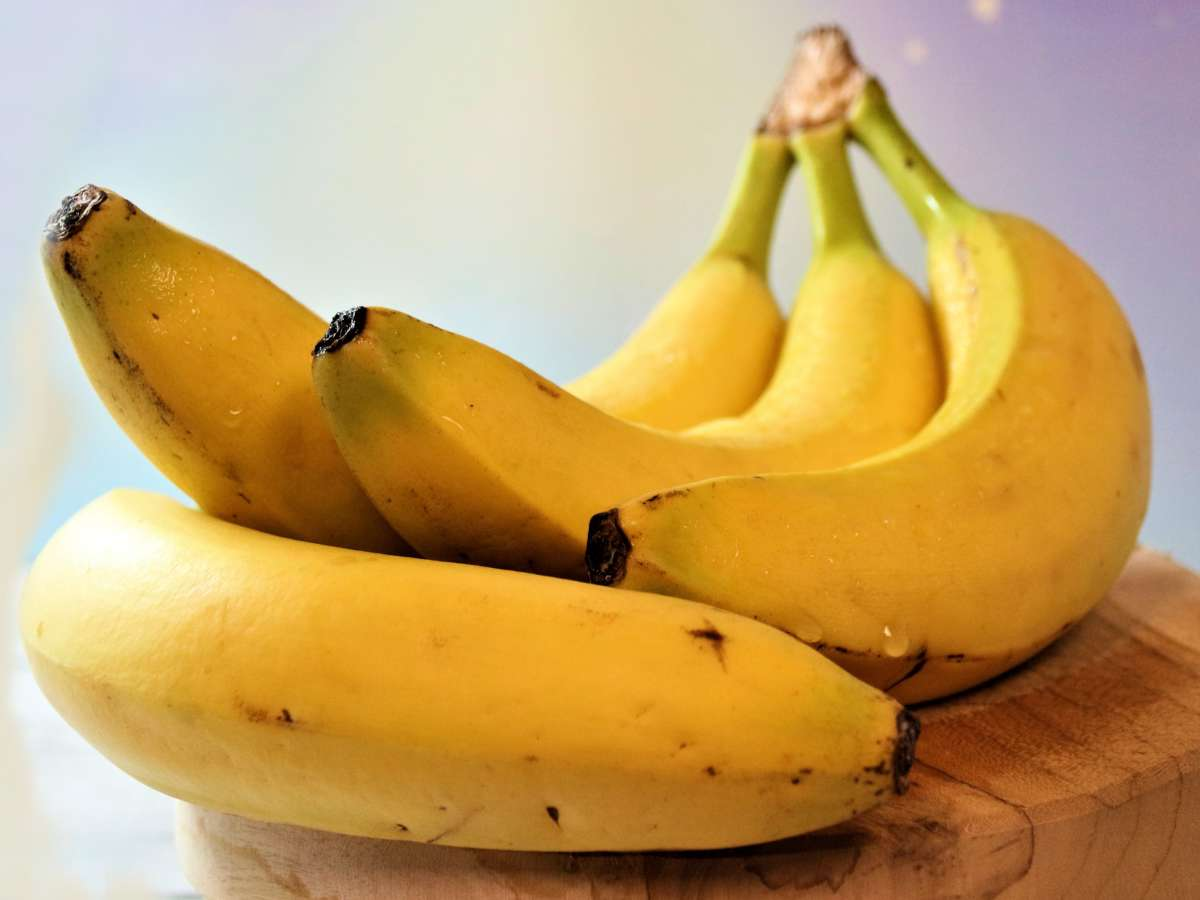banana: (36, 47, 1159, 676), (3, 494, 924, 870)
